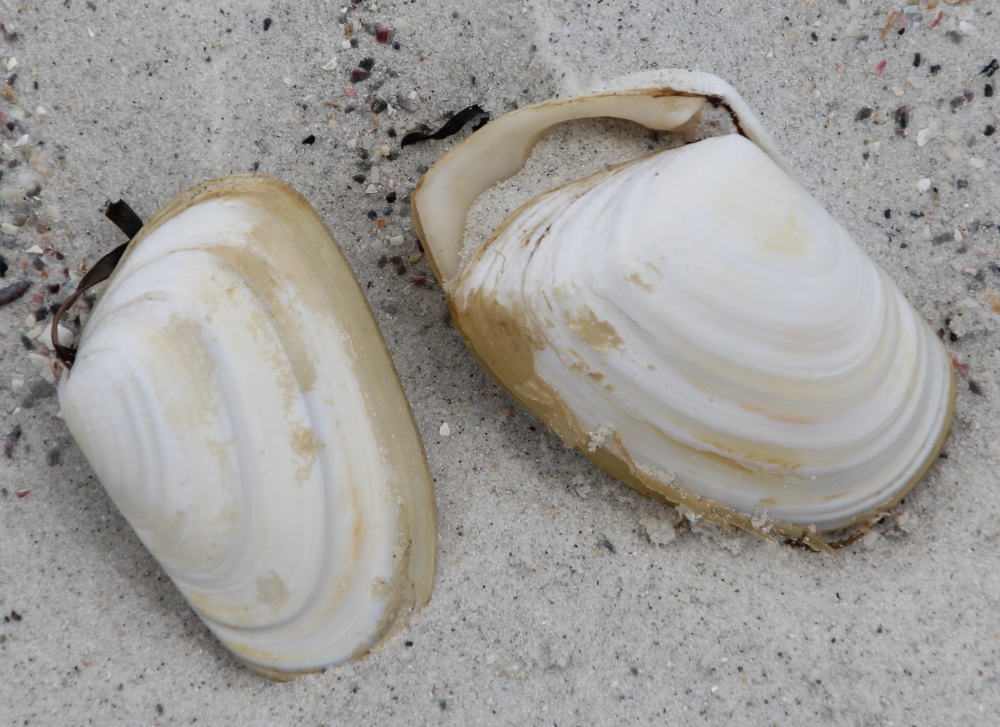tuatua: (453, 131, 963, 543), (48, 169, 447, 677)
